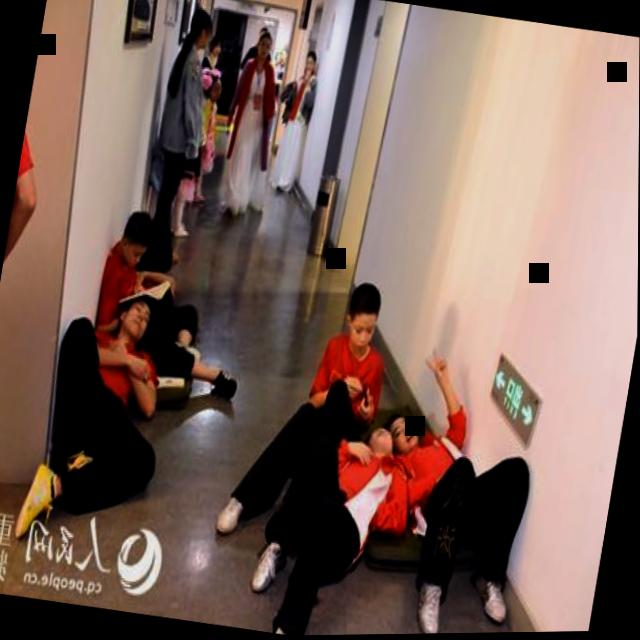Fall-Detected: (95, 223, 243, 407)
